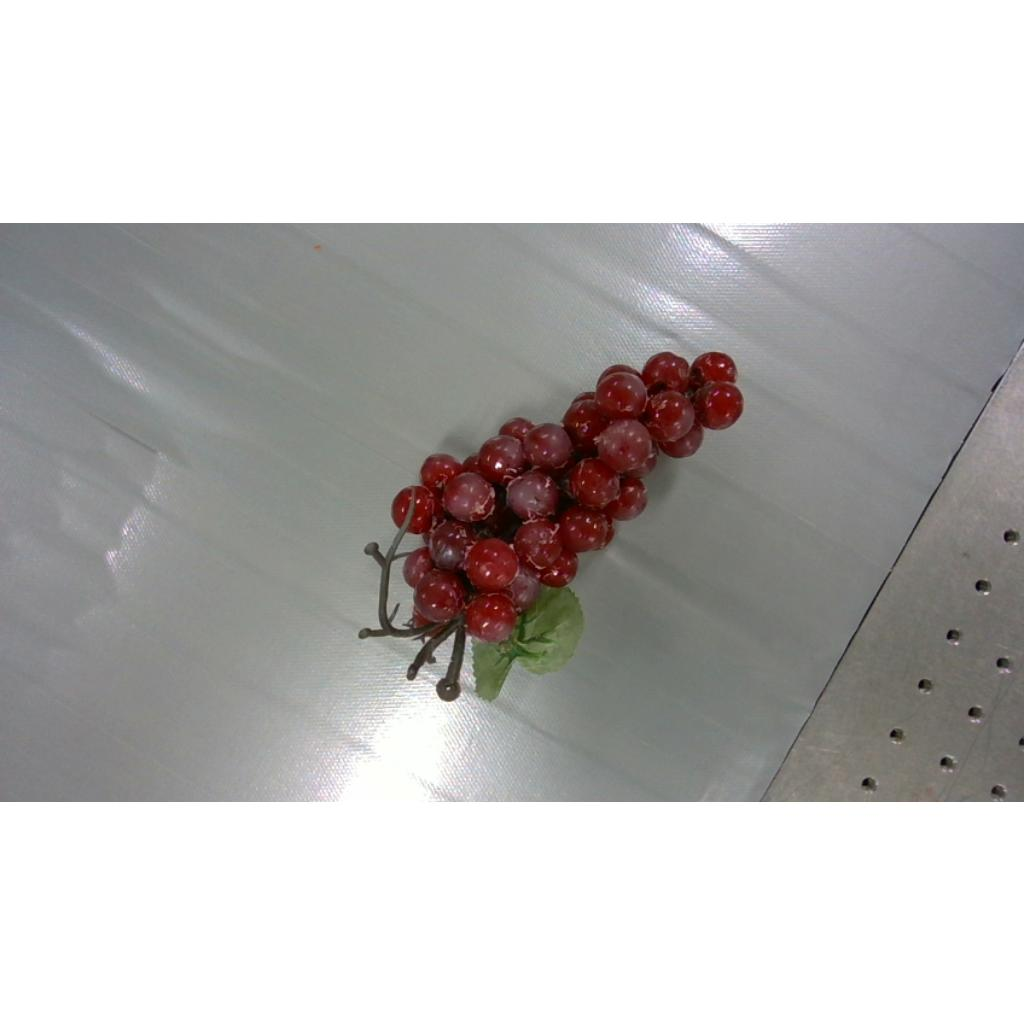grape: (360, 352, 744, 700)
